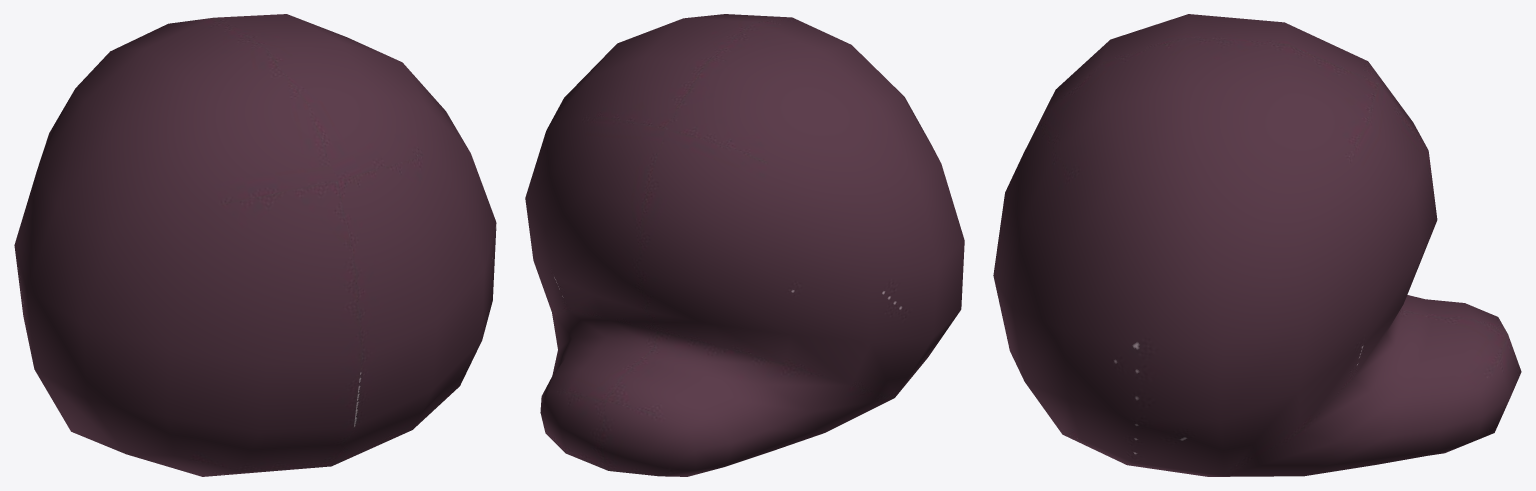
The model's file is Oil_Worm.fbx.
3 views of the same model, side by side, from view 1: azimuth 30°, elevation 25°; view 2: azimuth 150°, elevation 25°; view 3: azimuth 270°, elevation 25° (orthographic). The views are drawn at different scales.
Visible parts, largest first — view 1: Oil_Worm; view 2: Oil_Worm; view 3: Oil_Worm.
Boxes of the visible parts, x1,y1,x2,y2 form: Oil_Worm: (14,14,496,476); Oil_Worm: (525,14,964,476); Oil_Worm: (993,14,1521,476).
Bounding box in the file's own units: 85.55 × 75.36 × 89.31.
